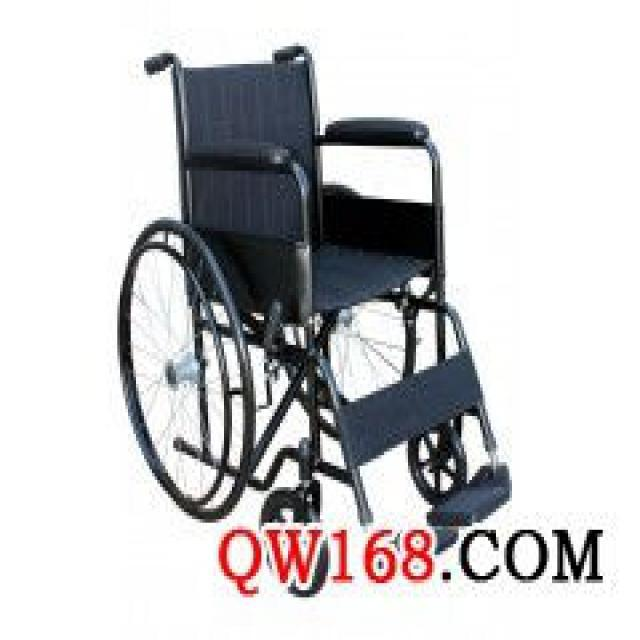wheelchair: (112, 39, 515, 526)
